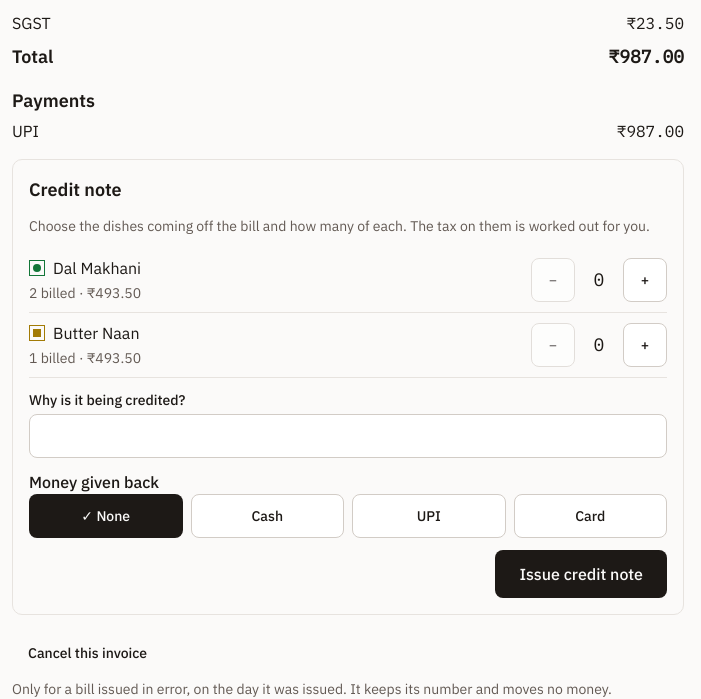
Test: InvoiceScreen › asks what the error was before it cancels the invoice, then says it is cancelled
(page scrolled)
Click the button "Cancel this invoice". click: coordinates (88, 653)
box: [12,631,163,675]
(page scrolled)
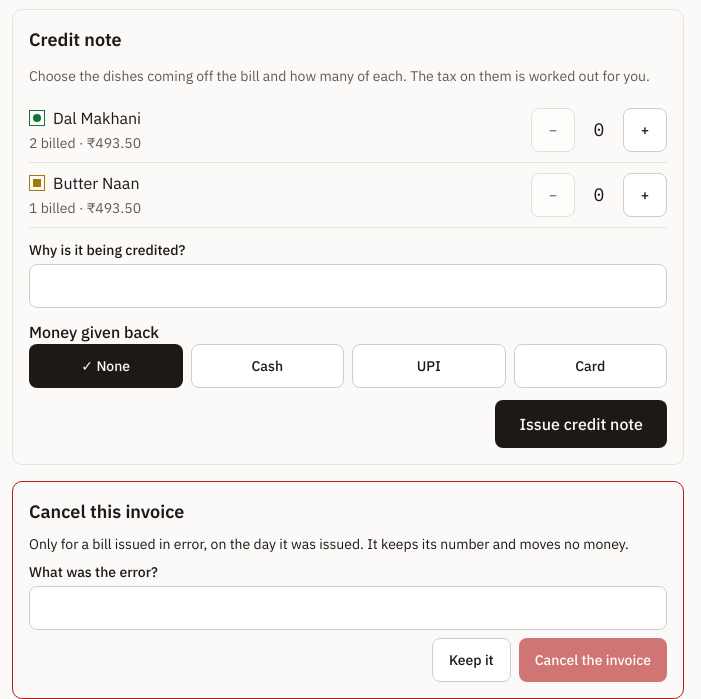
Expected: the button "Cancel the invoice" is disabled, [519,638,667,682]
Type "Billed to the wrong table" into the field labelled "What was the error?". click: coordinates (348, 608)
box: [29,586,667,630]
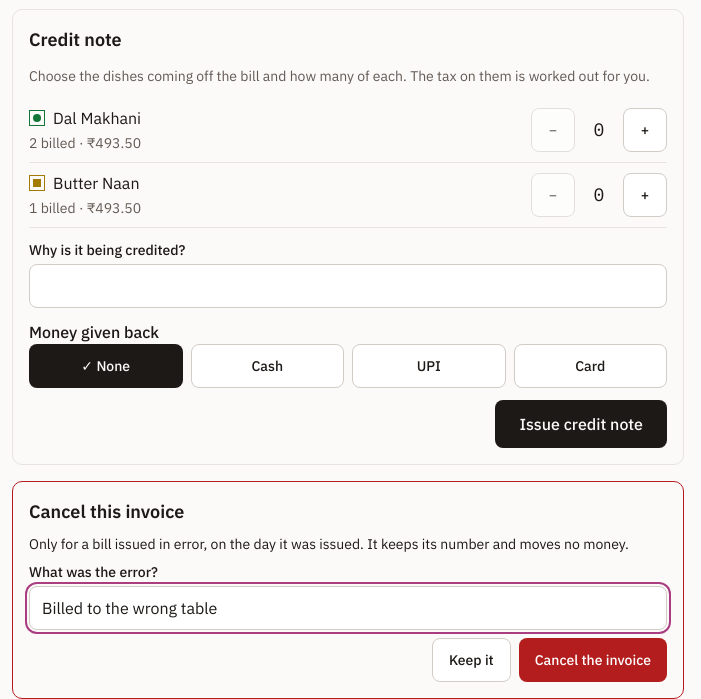
Click the button "Cancel the invoice". click: coordinates (593, 660)
box: [519,638,667,682]
(page scrolled)
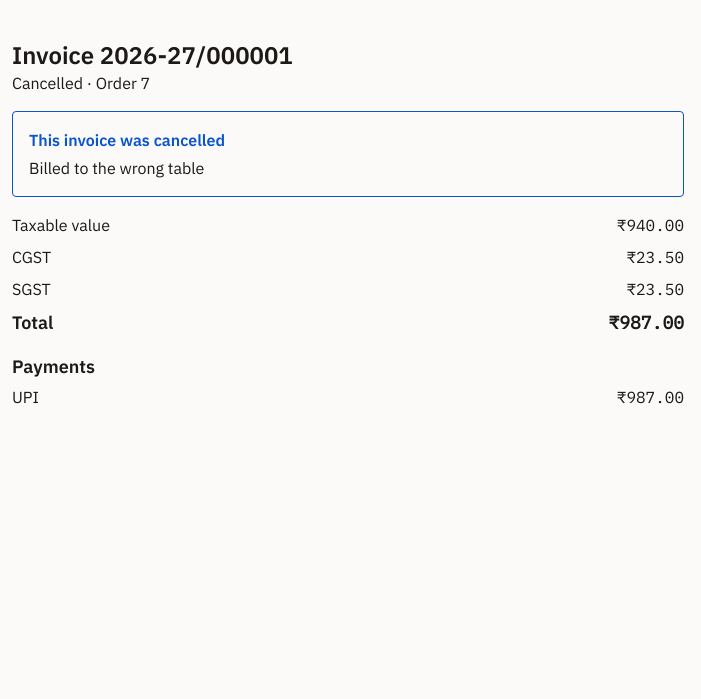
Expected: the text "This invoice was cancelled" is shown, [29,130,225,150]
Expected: the button "Issue credit note" is gone
